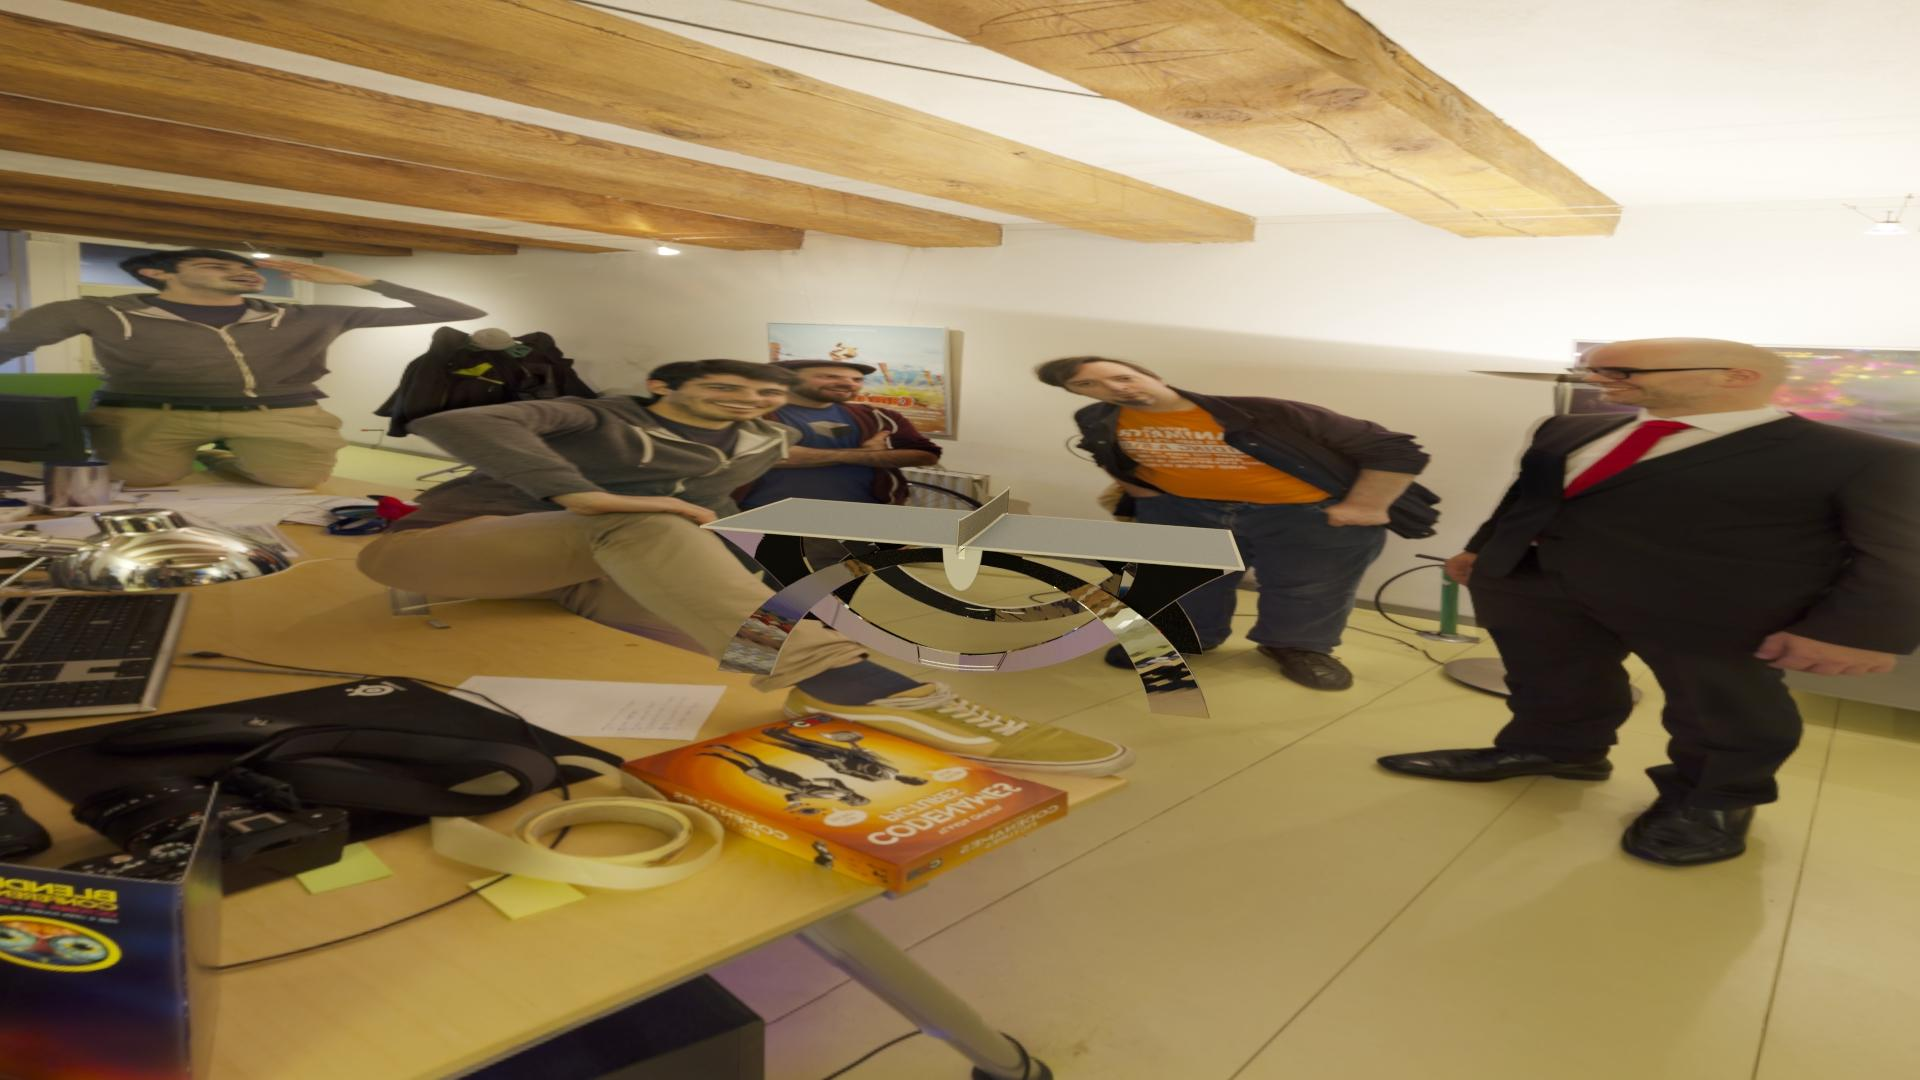table: (705, 498, 1241, 567)
